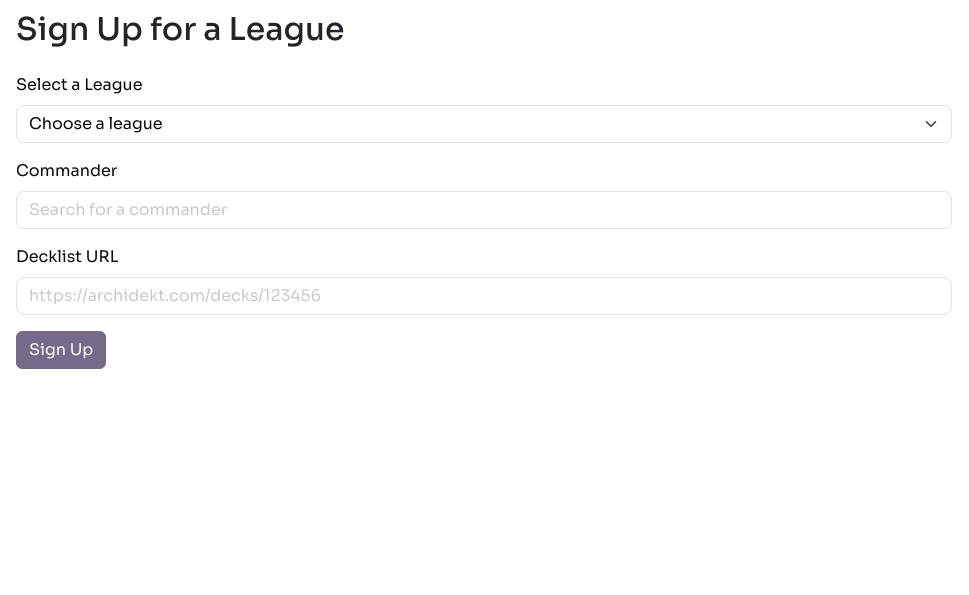
Test: SignUp › Partner commander › should select partner when clicked
This screenshot has width=969, height=595.
In the field labelled "Commander": x=484, y=210 16,191 -> 952,229, type "Thr"
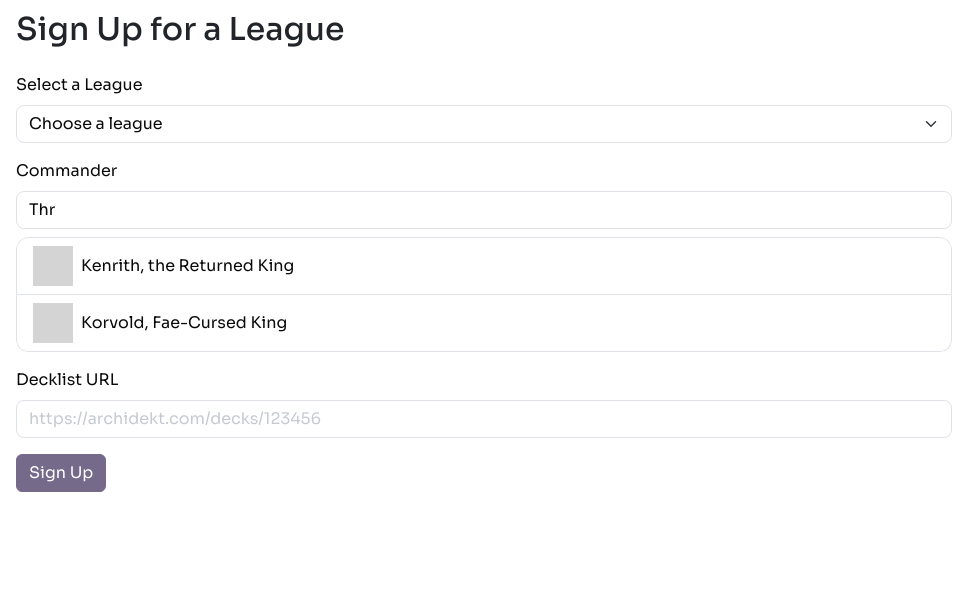
Now the list item "Kenrith, the Returned King" is shown
Click the list item "Kenrith, the Returned King": x=484, y=266 16,237 -> 952,295
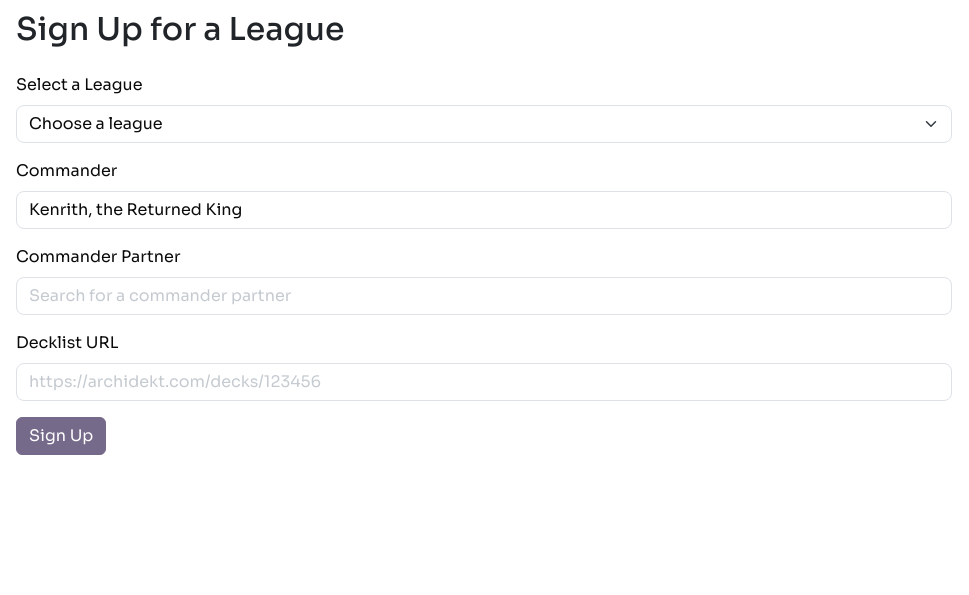
Now the field labelled "Commander Partner" is shown
In the field labelled "Commander Partner": x=484, y=296 16,277 -> 952,315, type "Thr"
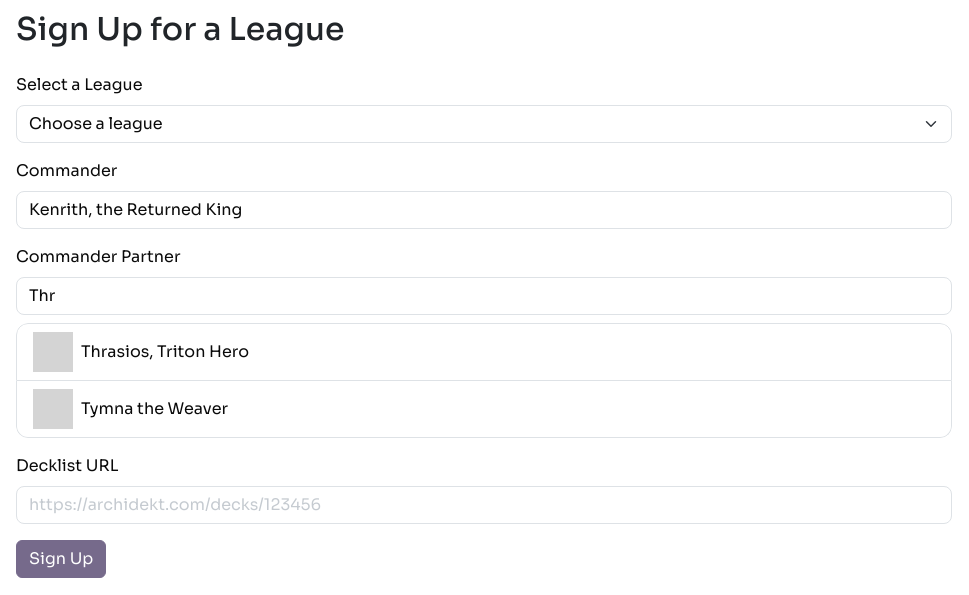
Now the list item "Thrasios, Triton Hero" is shown
Click the list item "Thrasios, Triton Hero": x=484, y=352 16,323 -> 952,381
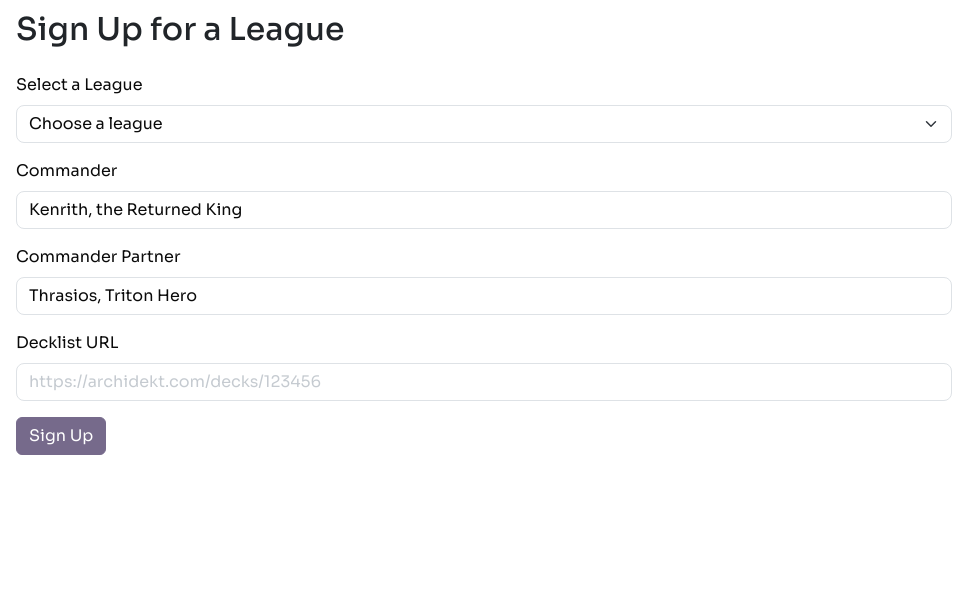
Now the field labelled "Commander Partner" holds "Thrasios, Triton Hero", box 16,277 -> 952,315
